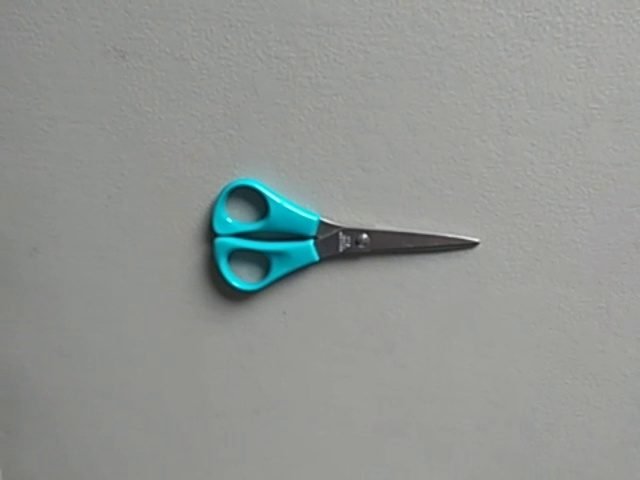Sizer: (204, 174, 486, 298)
